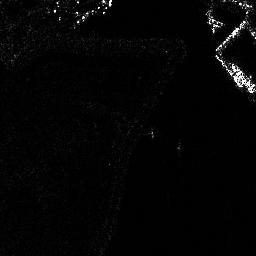ship: (227, 60, 256, 95)
